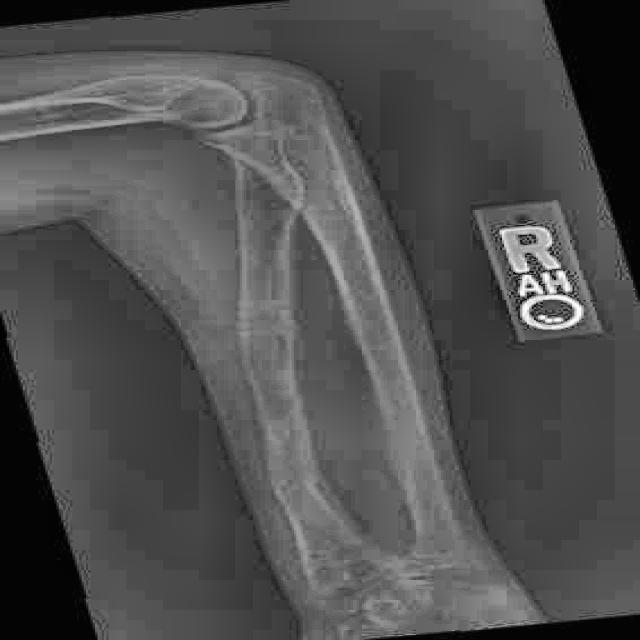forearm fracture: (283, 463, 373, 540)
